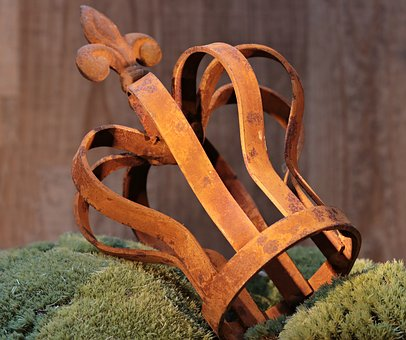rust: (73, 7, 359, 339)
